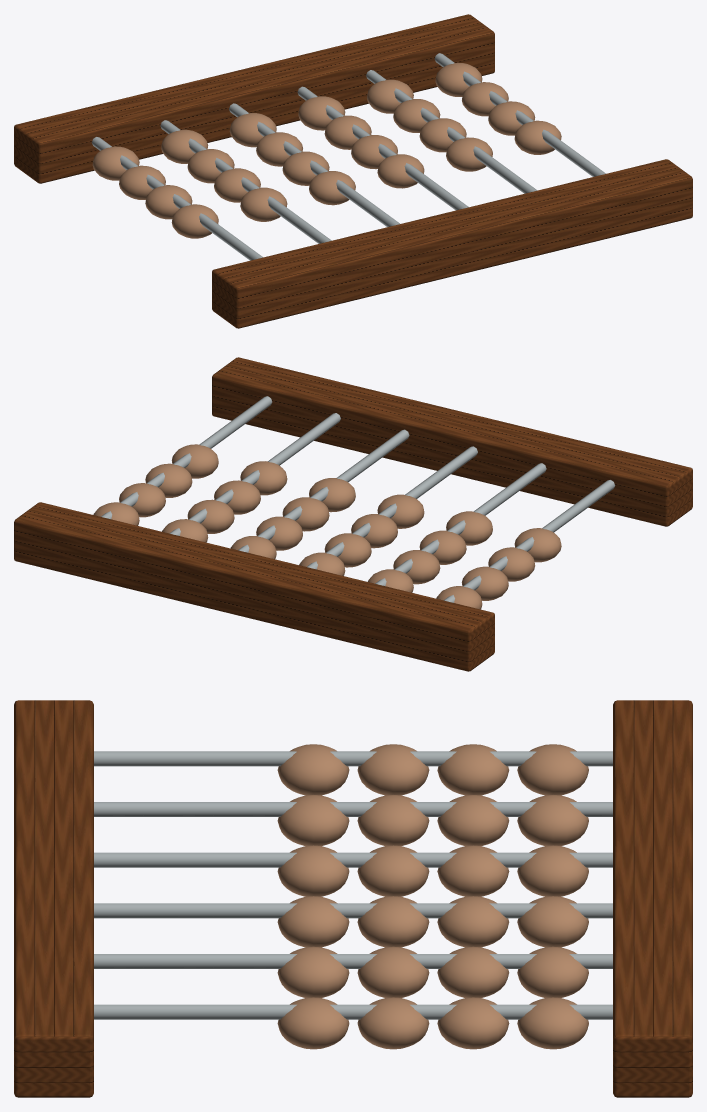
Rendered from research-and-crafting-progression-abacus-e3dcba23__2872.glb.
3 views of the same model, one above another, from view 1: azimuth 30°, elevation 25°; view 2: azimuth 150°, elevation 25°; view 3: azimuth 270°, elevation 25° (orthographic). The views are drawn at different scales.
Parts seen in each view (by area): view 1: abacus; view 2: abacus; view 3: abacus.
Part boxes in pixels (box(x1,y1,x2,y2)): abacus: box(14, 14, 692, 328); abacus: box(14, 357, 692, 671); abacus: box(14, 700, 692, 1097).
Bounding box in the file's own units: 0.4 × 0.035 × 0.34.
3 materials, 1 textured.
